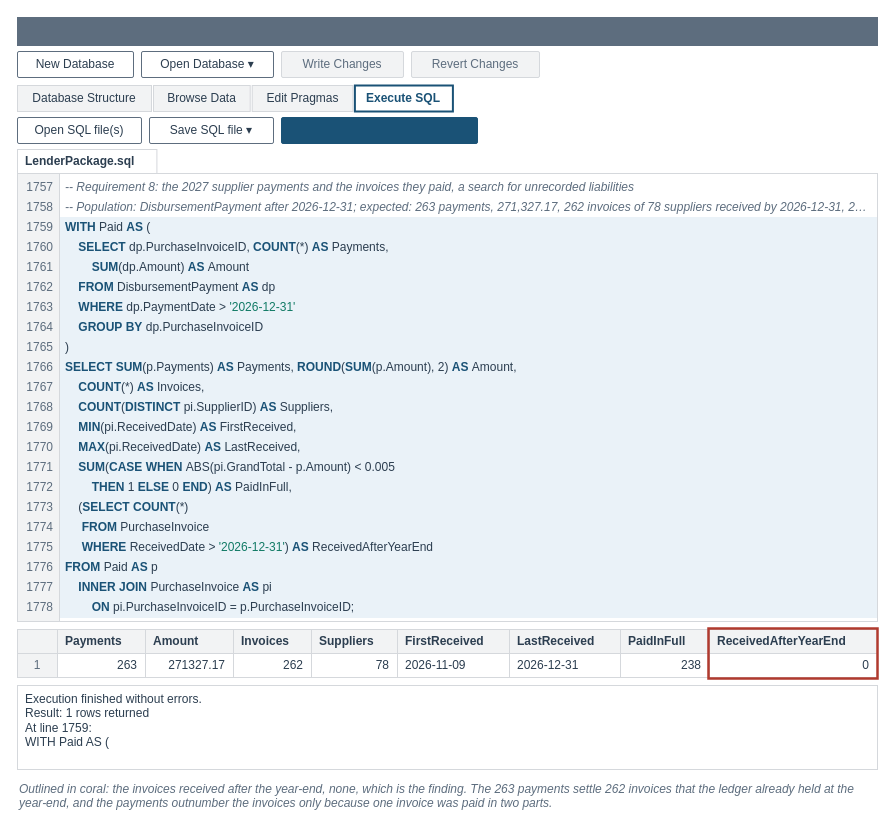
Some shapes in this 896 by 833 pixel diagram are drawn without their labels. Each missing label, with the box of its shape:
DB Browser for SQLite - C:\Users\you\Documents\CharlesRiver_Capstone.sqlite: (16, 16, 878, 46)
▶ Execute all/selected SQL: (280, 116, 478, 144)
